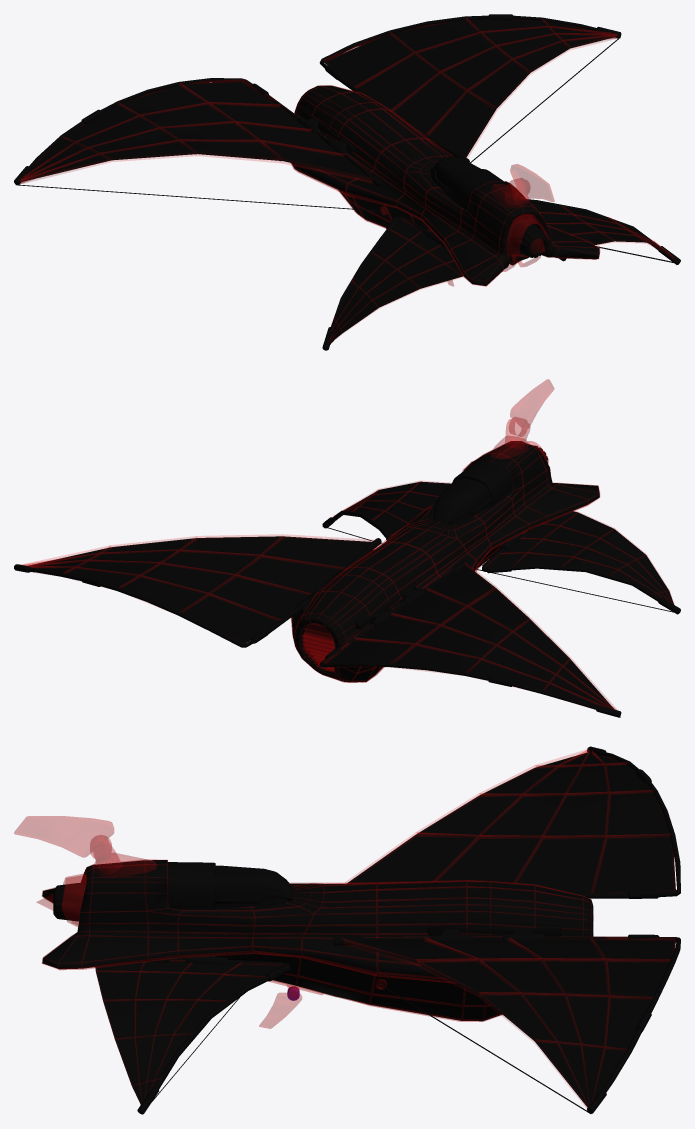
File: royalship.obj
3 views of the same model, one above another, from view 1: azimuth 30°, elevation 25°; view 2: azimuth 150°, elevation 25°; view 3: azimuth 270°, elevation 25° (orthographic). The views are drawn at different scales.
Parts seen in each view (by area): view 1: sail_low_Mesh.084, body_low_Mesh.079, sail_frame_low_Mesh.080, polySurface5_Mesh.088, hood_low_Mesh.075, bk_fin_low_Mesh.071, cables_low_Mesh.086, engine_low_Mesh.089, glass_low_Mesh.076, engine_cover_low_Mesh.078, sail_connector_low_Mesh.069; view 2: sail_low_Mesh.084, body_low_Mesh.079, sail_frame_low_Mesh.080, glass_low_Mesh.076, polySurface5_Mesh.088, hood_low_Mesh.075, vent_low_Mesh.074, bk_fin_low_Mesh.071, sail_connector_low_Mesh.069, bk_fin_connector_low_Mesh.070, bk_sail_connector_low_Mesh.085; view 3: sail_low_Mesh.084, body_low_Mesh.079, sail_frame_low_Mesh.080, bk_fin_low_Mesh.071, glass_low_Mesh.076, hood_low_Mesh.075, polySurface5_Mesh.088, bk_sail_connector_low_Mesh.085, sail_connector_low_Mesh.069, engine_low_Mesh.089, bk_fin_connector_low_Mesh.070, engine_cover_low_Mesh.078 (+3 smaller).
Part boxes in pixels (<box>): sail_low_Mesh.084: <box>20,18,674,343</box>; body_low_Mesh.079: <box>290,85,599,286</box>; sail_frame_low_Mesh.080: <box>29,15,659,326</box>; polySurface5_Mesh.088: <box>14,14,680,350</box>; hood_low_Mesh.075: <box>451,169,503,210</box>; bk_fin_low_Mesh.071: <box>510,164,554,201</box>; cables_low_Mesh.086: <box>16,38,673,344</box>; engine_low_Mesh.089: <box>510,221,547,257</box>; glass_low_Mesh.076: <box>431,156,480,197</box>; engine_cover_low_Mesh.078: <box>507,214,548,256</box>; sail_connector_low_Mesh.069: <box>297,99,446,246</box>; sail_low_Mesh.084: <box>21,481,674,709</box>; body_low_Mesh.079: <box>290,441,599,682</box>; sail_frame_low_Mesh.080: <box>28,510,660,709</box>; glass_low_Mesh.076: <box>432,478,490,524</box>; polySurface5_Mesh.088: <box>14,517,680,717</box>; hood_low_Mesh.075: <box>452,461,512,506</box>; vent_low_Mesh.074: <box>302,624,334,672</box>; bk_fin_low_Mesh.071: <box>510,379,554,428</box>; sail_connector_low_Mesh.069: <box>297,526,535,625</box>; bk_fin_connector_low_Mesh.070: <box>491,436,528,458</box>; bk_sail_connector_low_Mesh.085: <box>300,545,498,629</box>; sail_low_Mesh.084: <box>95,749,675,1107</box>; body_low_Mesh.079: <box>42,859,593,1021</box>; sail_frame_low_Mesh.080: <box>155,751,680,1092</box>; bk_fin_low_Mesh.071: <box>14,816,113,857</box>; glass_low_Mesh.076: <box>215,865,295,908</box>; hood_low_Mesh.075: <box>167,862,215,909</box>; polySurface5_Mesh.088: <box>137,746,658,1114</box>; bk_sail_connector_low_Mesh.085: <box>177,925,561,959</box>; sail_connector_low_Mesh.069: <box>140,928,544,964</box>; engine_low_Mesh.089: <box>53,882,85,921</box>; bk_fin_connector_low_Mesh.070: <box>93,853,155,876</box>; engine_cover_low_Mesh.078: <box>62,873,86,926</box>.
Bounding box in the file's own units: 2.57 × 0.7027 × 2.
